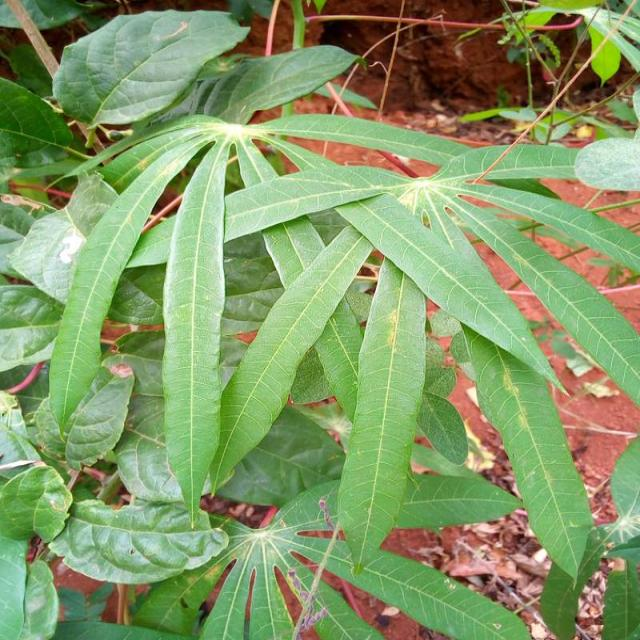cassava leaf: (1, 7, 638, 638), (336, 253, 426, 575), (160, 132, 230, 527)
